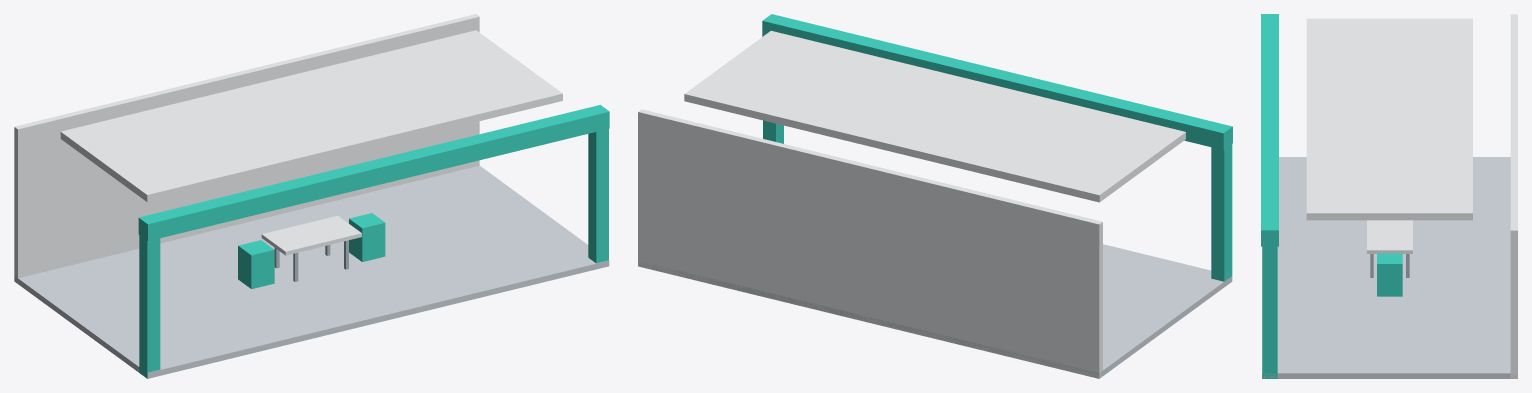
The picture shows the model from 3 angles, left to right: view 1: azimuth 30°, elevation 25°; view 2: azimuth 150°, elevation 25°; view 3: azimuth 270°, elevation 25°; orthographic projection. The views are drawn at different scales.
Parts seen in each view (by area): view 1: Exhibition Booth Concept; view 2: Exhibition Booth Concept; view 3: Exhibition Booth Concept.
Part boxes in pixels (<box>): Exhibition Booth Concept: <box>14,14,609,378</box>; Exhibition Booth Concept: <box>638,14,1232,378</box>; Exhibition Booth Concept: <box>1261,14,1517,378</box>.
Size of the model in its own units: 10 by 3.34 by 5.02.
